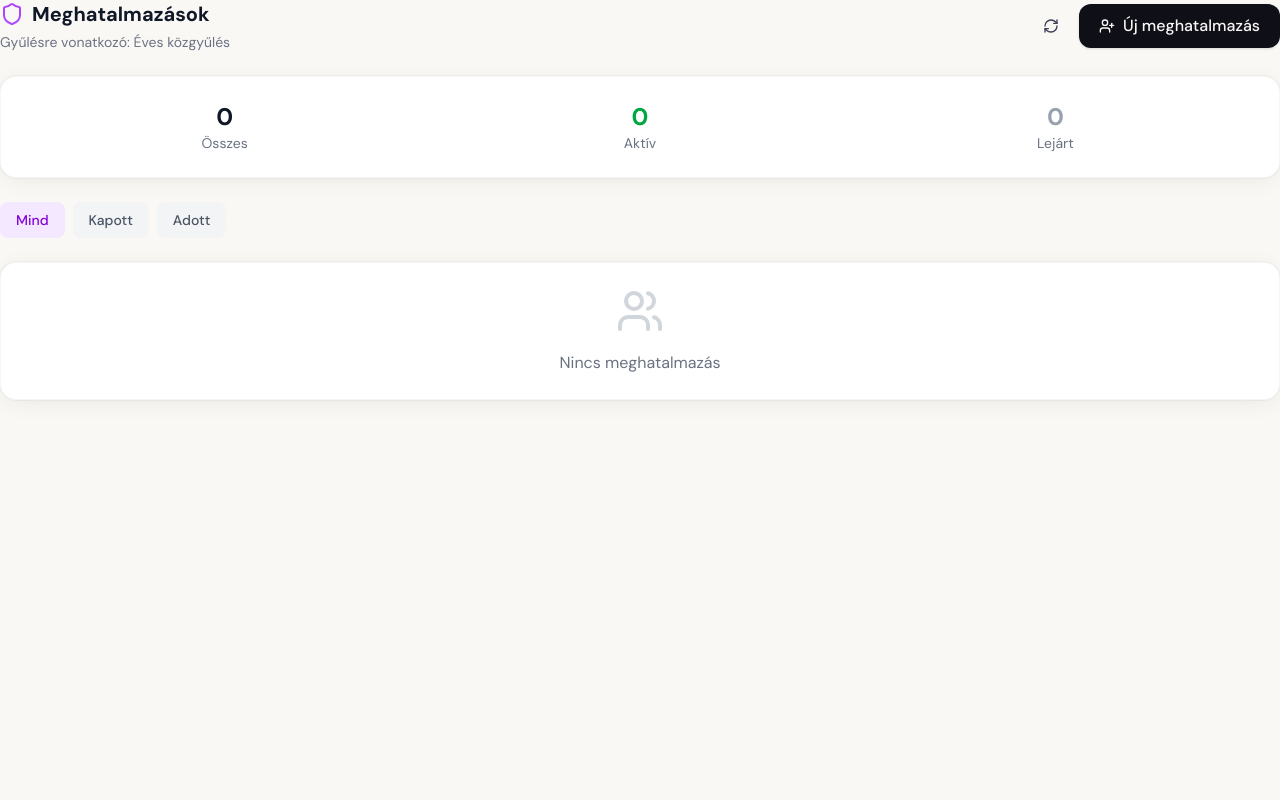
it: ProxyManagement Meeting-Specific › shows general proxy checkbox when meeting provided
Click the button "Új meghatalmazás".
click(1180, 26)  # box [1079,4,1279,48]
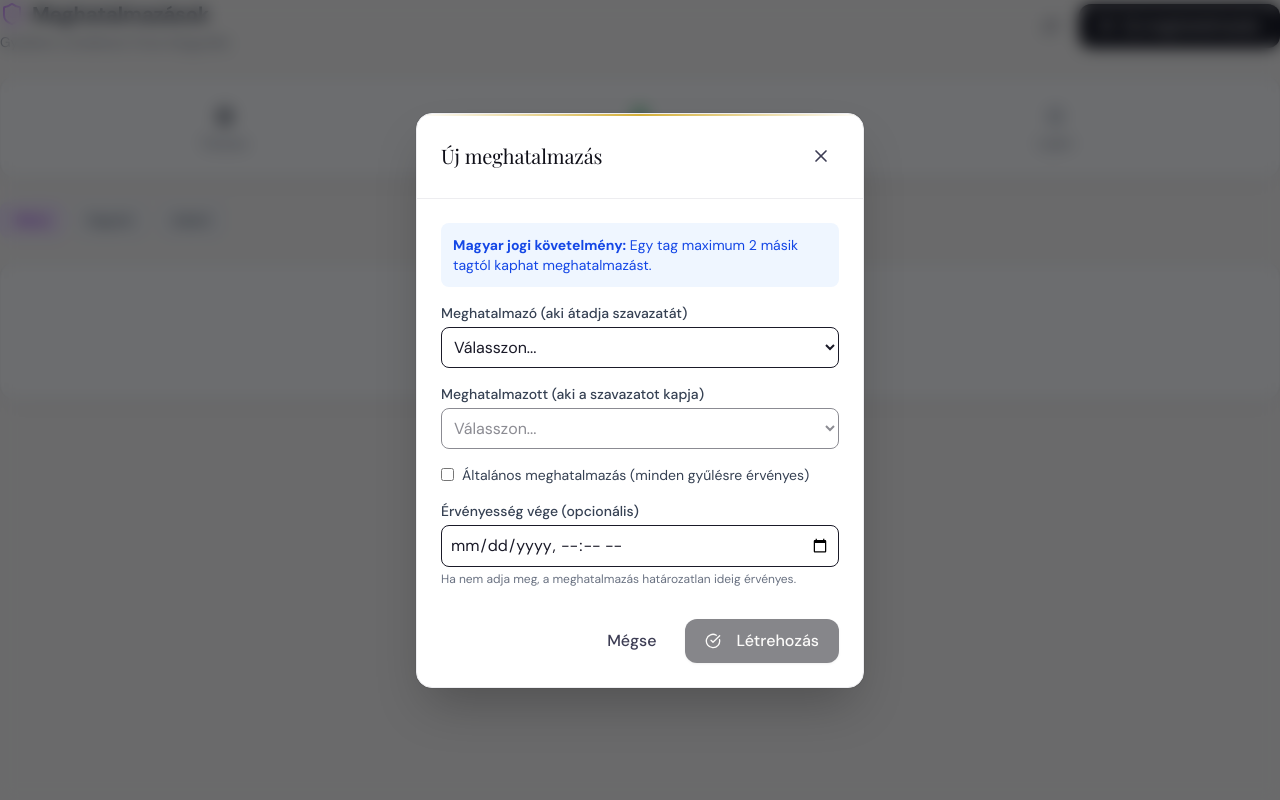
Expected: the text "Általános meghatalmazás (minden gyűlésre érvényes)" is shown, [462,464,809,484]
